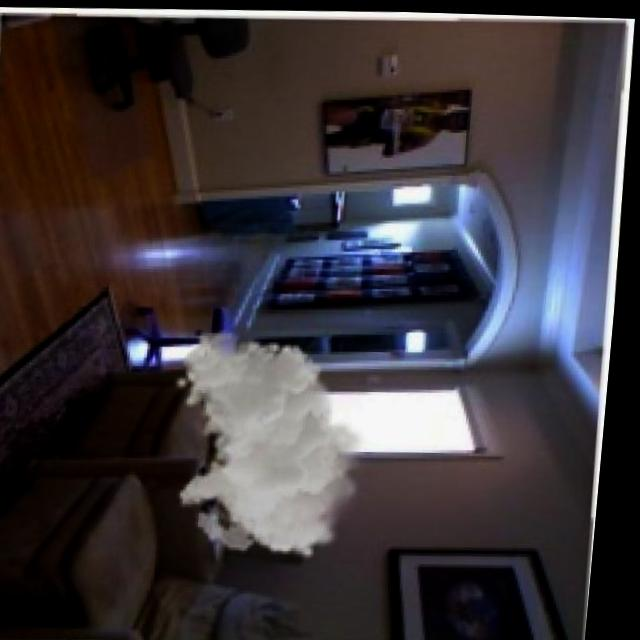Smoke: (170, 327, 383, 557)
